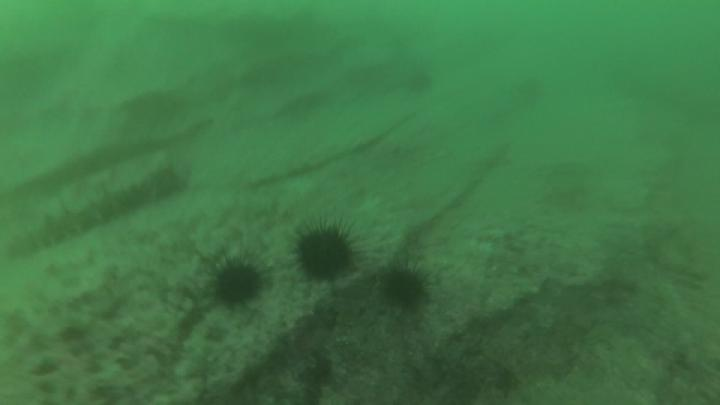echinus: (300, 230, 352, 281), (218, 267, 261, 305), (388, 268, 423, 304)
holothurian: (8, 179, 157, 254)
